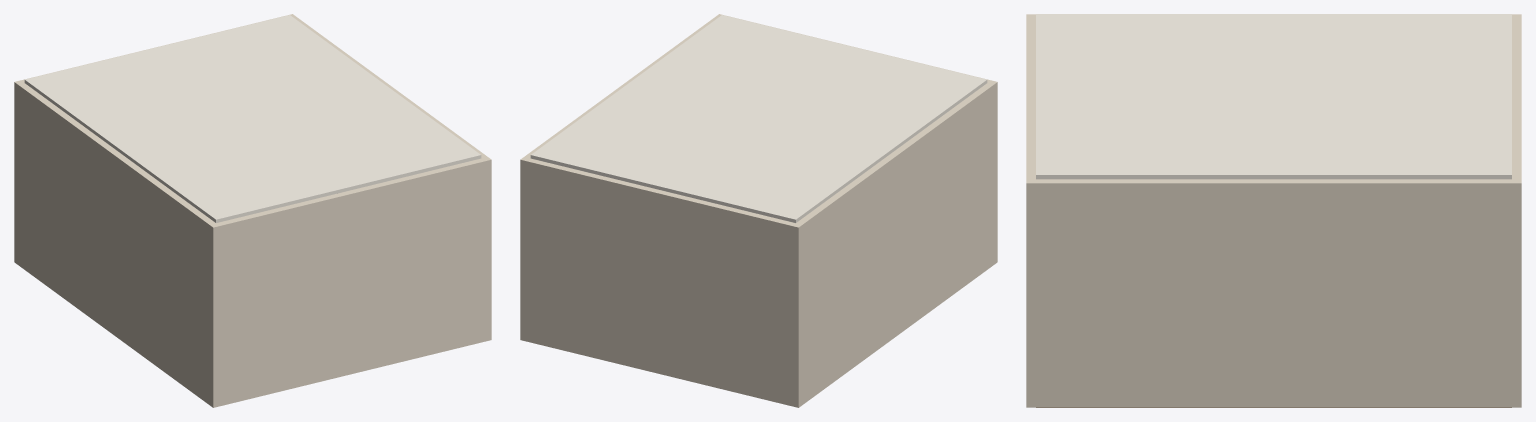
The model's file is room.glb.
3 renders of one model, left to right at view 1: azimuth 30°, elevation 25°; view 2: azimuth 150°, elevation 25°; view 3: azimuth 270°, elevation 25°, orthographic. The views are drawn at different scales.
Visible parts, largest first — view 1: WallNear, Ceiling, WallLeft, WallFar, WallRight; view 2: WallFar, Ceiling, WallLeft, WallNear, WallRight; view 3: WallRight, Ceiling, WallFar, WallNear, Floor.
Part boxes in pixels (bbox=[...]): WallNear: bbox=[209, 157, 491, 407]; Ceiling: bbox=[24, 15, 481, 222]; WallLeft: bbox=[18, 83, 215, 404]; WallFar: bbox=[14, 14, 295, 264]; WallRight: bbox=[294, 17, 487, 158]; WallFar: bbox=[520, 157, 802, 407]; Ceiling: bbox=[530, 15, 987, 222]; WallLeft: bbox=[796, 83, 993, 404]; WallNear: bbox=[716, 14, 997, 264]; WallRight: bbox=[524, 17, 717, 158]; WallRight: bbox=[1036, 179, 1511, 407]; Ceiling: bbox=[1036, 14, 1511, 179]; WallFar: bbox=[1512, 14, 1521, 407]; WallNear: bbox=[1026, 14, 1035, 407]; Floor: bbox=[1036, 407, 1511, 407].
Bounding box in the file's own units: 4.2 × 2.7 × 5.2.
